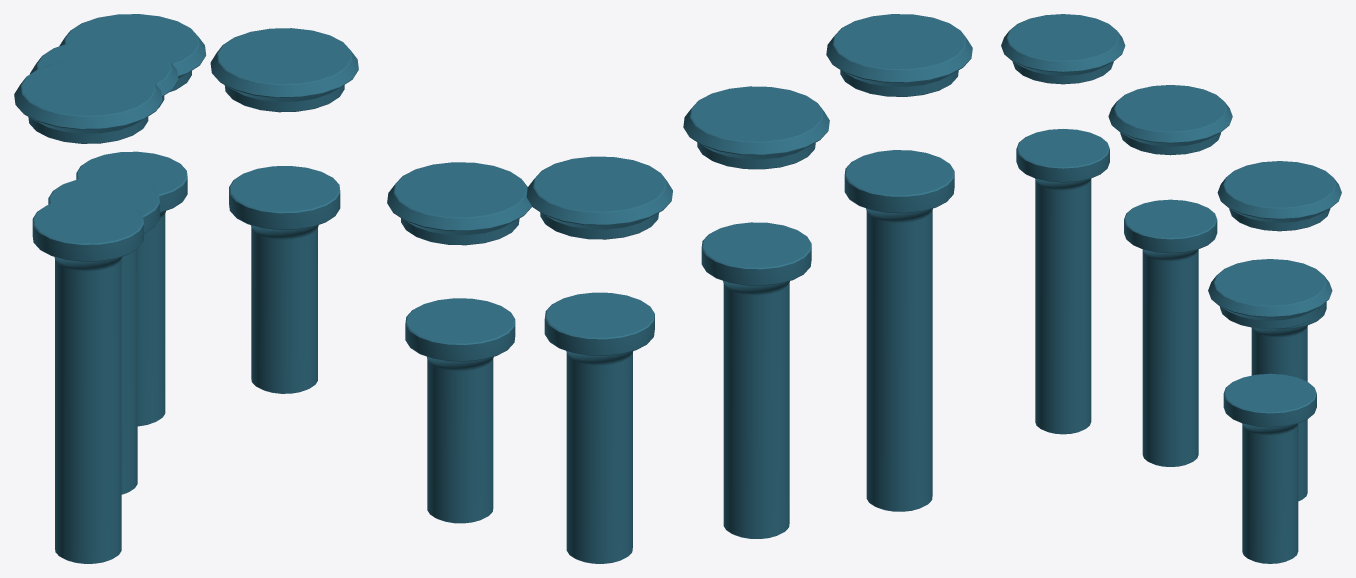
Rendered from Platform2.fbx.
The picture shows the model from 3 angles, left to right: view 1: azimuth 30°, elevation 25°; view 2: azimuth 150°, elevation 25°; view 3: azimuth 270°, elevation 25°; orthographic projection. The views are drawn at different scales.
Visible parts, largest first — view 1: pasted__pCylinder1, pCylinder1, pCylinder2, pasted__pCylinder2, pasted__pCylinder5, pasted__pCylinder4, pasted__pCylinder6, pasted__pCylinder3; view 2: pasted__pCylinder1, pasted__pCylinder4, pasted__pCylinder5, pCylinder1, pasted__pCylinder3, pasted__pCylinder6, pasted__pCylinder2, pCylinder2; view 3: pasted__pCylinder1, pasted__pCylinder4, pCylinder1, pasted__pCylinder2, pasted__pCylinder6, pCylinder2, pasted__pCylinder3, pasted__pCylinder5.
Boxes of the visible parts, <box> form: pasted__pCylinder1: <box>32,197,143,563</box>; pCylinder1: <box>229,166,340,393</box>; pCylinder2: <box>210,28,358,112</box>; pasted__pCylinder2: <box>14,60,162,143</box>; pasted__pCylinder5: <box>76,151,187,426</box>; pasted__pCylinder4: <box>48,176,159,494</box>; pasted__pCylinder6: <box>59,14,205,91</box>; pasted__pCylinder3: <box>30,39,178,108</box>; pasted__pCylinder1: <box>844,150,954,511</box>; pasted__pCylinder4: <box>701,222,811,538</box>; pasted__pCylinder5: <box>544,292,654,563</box>; pCylinder1: <box>405,298,515,523</box>; pasted__pCylinder3: <box>683,86,829,169</box>; pasted__pCylinder6: <box>526,156,672,239</box>; pasted__pCylinder2: <box>826,14,972,96</box>; pCylinder2: <box>387,162,532,245</box>; pasted__pCylinder1: <box>1016,129,1109,434</box>; pasted__pCylinder4: <box>1124,199,1217,466</box>; pCylinder1: <box>1223,373,1316,563</box>; pasted__pCylinder2: <box>1001,14,1125,84</box>; pasted__pCylinder6: <box>1217,161,1341,231</box>; pCylinder2: <box>1208,259,1332,329</box>; pasted__pCylinder3: <box>1108,85,1232,155</box>; pasted__pCylinder5: <box>1251,302,1326,501</box>.
Bounding box in the file's own units: 5.91 × 5.82 × 4.65.
